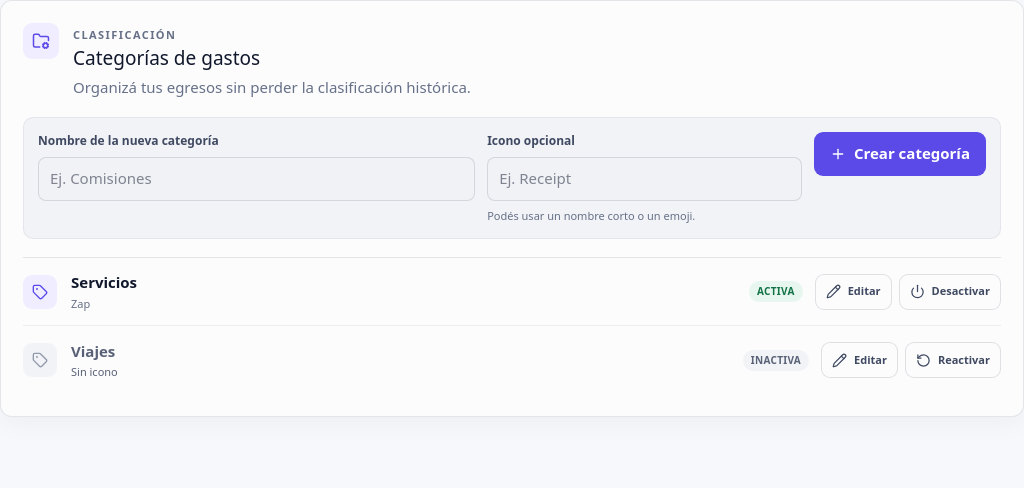
Test: ExpenseCategoryManager › associates create field errors with the name control
Type "Servicios" into the field labelled "Nombre de la nueva categoría" at (257, 178), box x1=38 y1=156 x2=475 y2=200
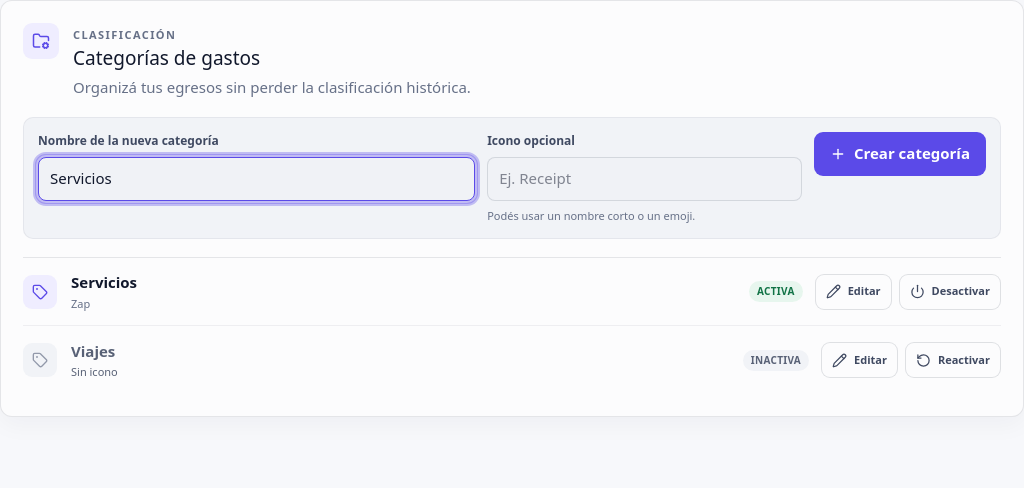
Click the button "Crear categoría" at (900, 154), box x1=814 y1=132 x2=986 y2=176
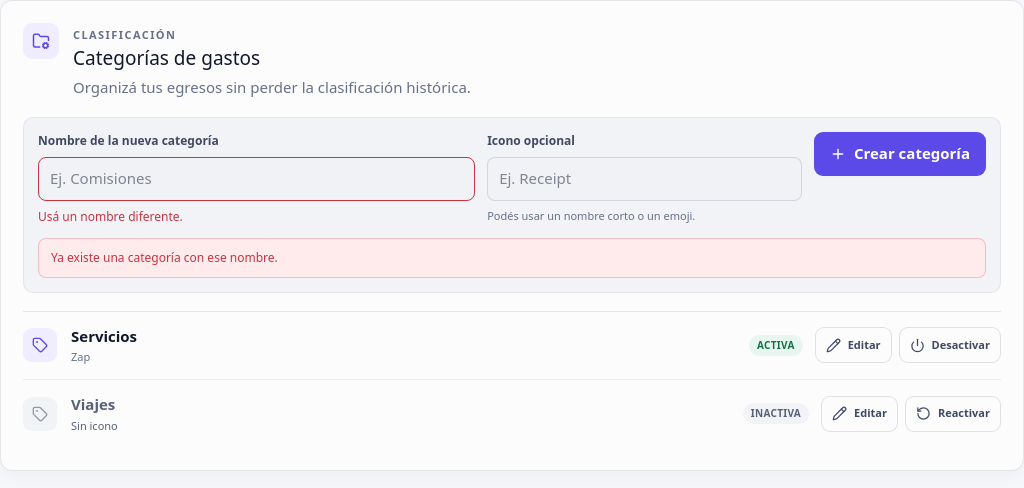
Now the message shows "Ya existe una categoría", box x1=51 y1=248 x2=278 y2=266
